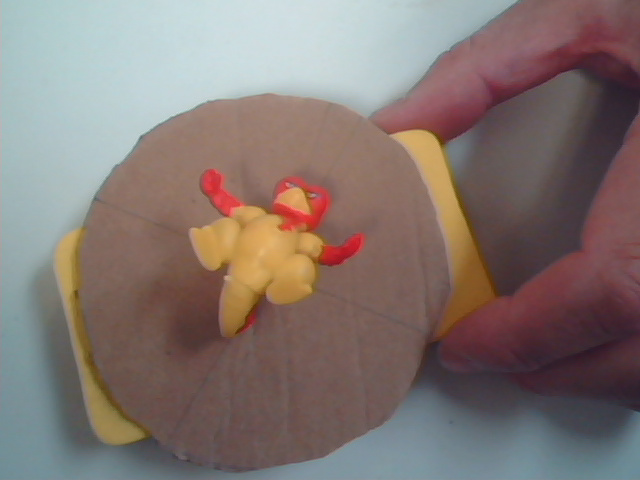magmar: (160, 170, 390, 381)
